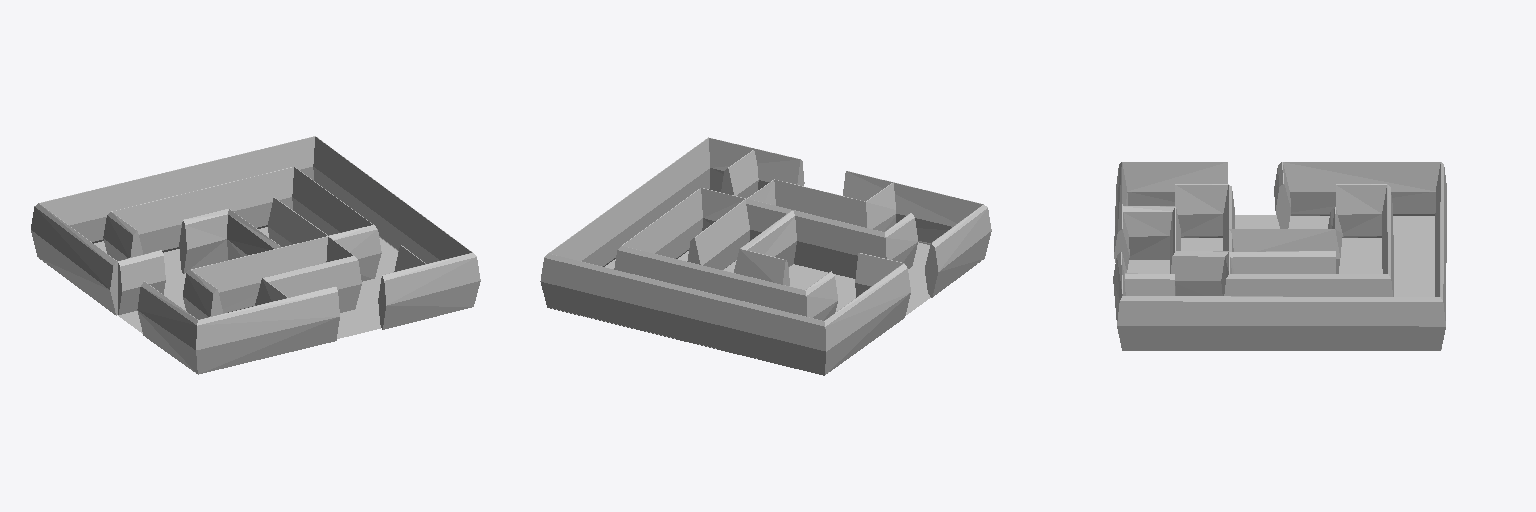
The model's file is maze.obj.
The picture shows the model from 3 angles: view 1: azimuth 30°, elevation 25°; view 2: azimuth 150°, elevation 25°; view 3: azimuth 270°, elevation 25°; orthographic projection.
Parts seen in each view (by area): view 1: maze; view 2: maze; view 3: maze.
Boxes of the visible parts, x1,y1,x2,y2 form: maze: [31, 136, 480, 374]; maze: [540, 137, 991, 375]; maze: [1113, 162, 1446, 350].
Size of the model in its own units: 6.28 by 1.13 by 6.28.